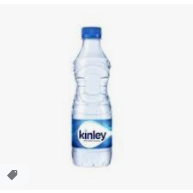Bottle: (72, 26, 115, 168)
